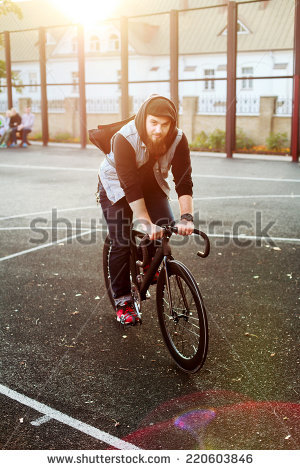bikerider: (91, 82, 215, 388)
